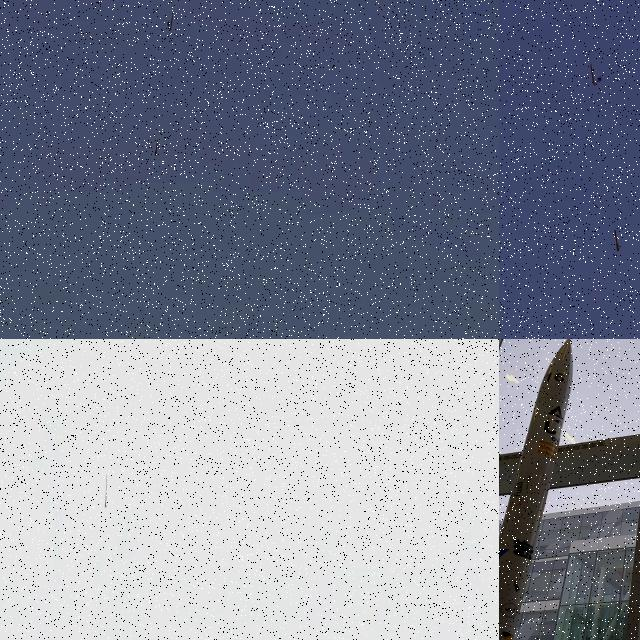Rocket: (499, 339, 573, 640), (614, 230, 620, 252), (154, 139, 159, 157), (105, 474, 107, 508)
